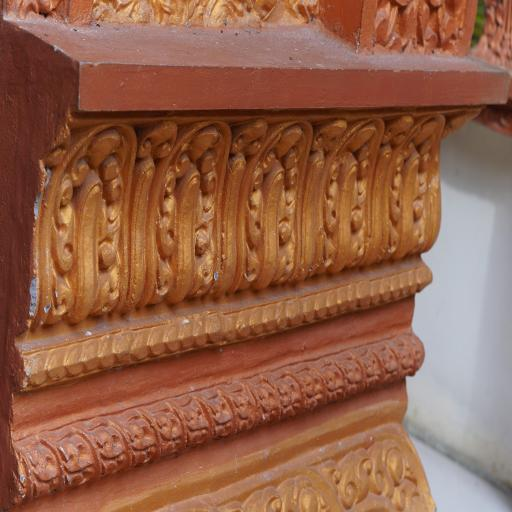la: (38, 108, 179, 344), (155, 114, 264, 336), (234, 110, 349, 305), (332, 110, 411, 277), (392, 113, 452, 268), (336, 436, 438, 512), (357, 0, 478, 60), (237, 465, 347, 512)
